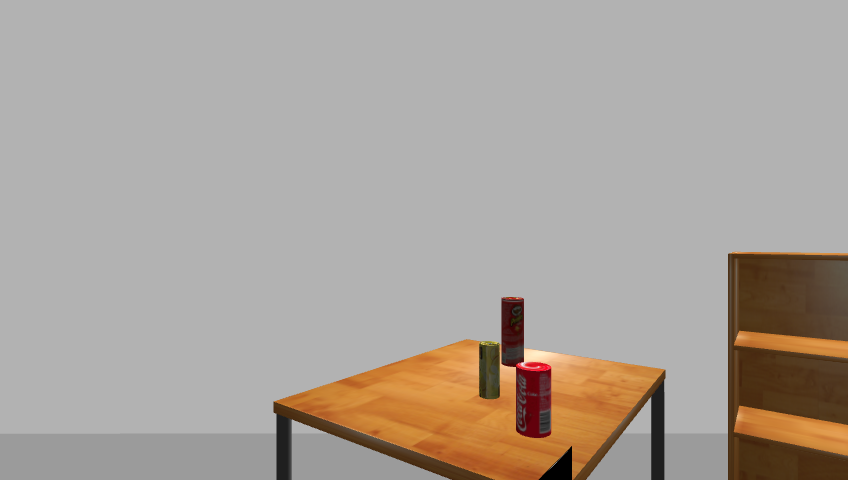aruco marker: (529, 447, 575, 480)
biscuits pack: (477, 340, 501, 400)
bookshelf: (722, 249, 848, 480)
coke can: (514, 362, 554, 438)
dinner table: (265, 340, 675, 479)
pringles can: (498, 295, 527, 370)
